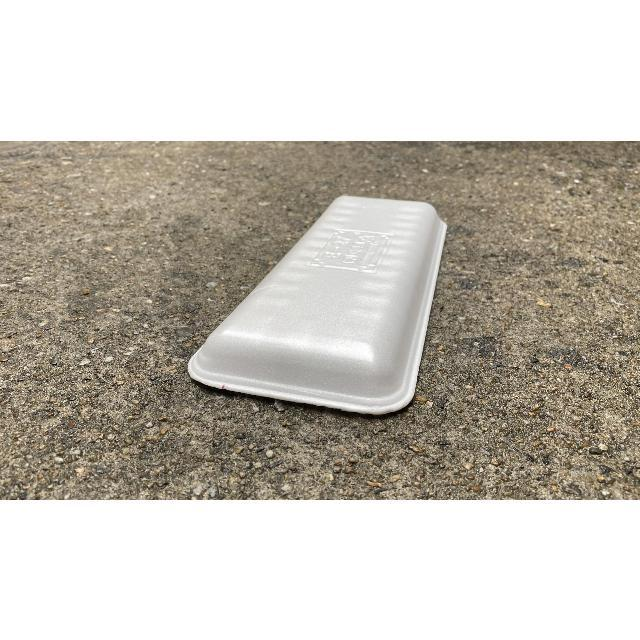Recipiente plastico: (189, 196, 446, 414)
